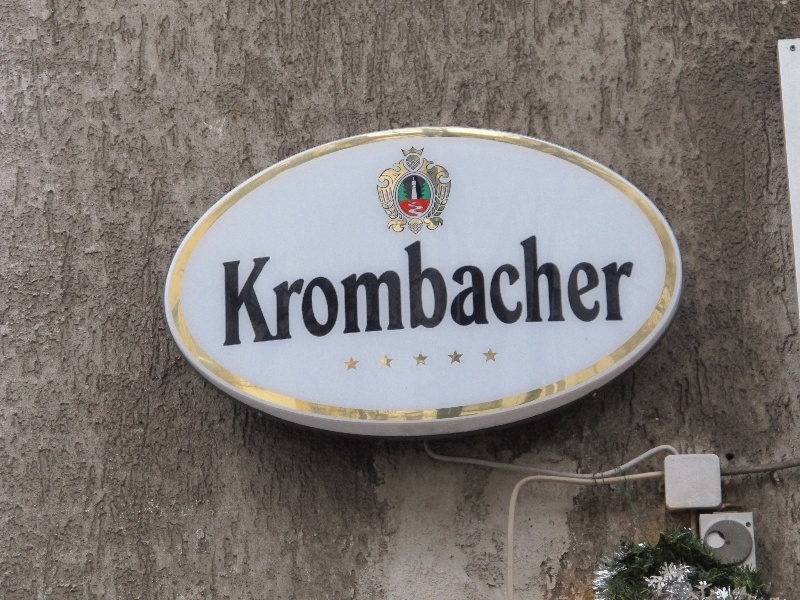text: (225, 215, 240, 351), (241, 215, 256, 351), (257, 215, 272, 351), (273, 215, 288, 351), (289, 215, 304, 351), (305, 215, 320, 351), (321, 215, 336, 351), (337, 215, 352, 351), (353, 215, 368, 351), (369, 215, 384, 351), (385, 215, 400, 351), (401, 215, 416, 351), (417, 215, 432, 351), (433, 215, 448, 351), (449, 215, 464, 351), (465, 215, 480, 351), (481, 215, 496, 351), (497, 215, 512, 351), (513, 215, 528, 351), (529, 215, 544, 351), (545, 215, 560, 351), (561, 215, 576, 351), (577, 215, 592, 351), (593, 215, 608, 351), (609, 215, 624, 351), (625, 215, 640, 351), (219, 215, 224, 351)
